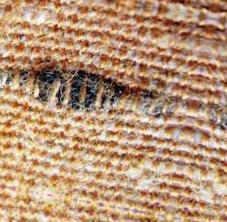slub: (1, 64, 227, 130)
